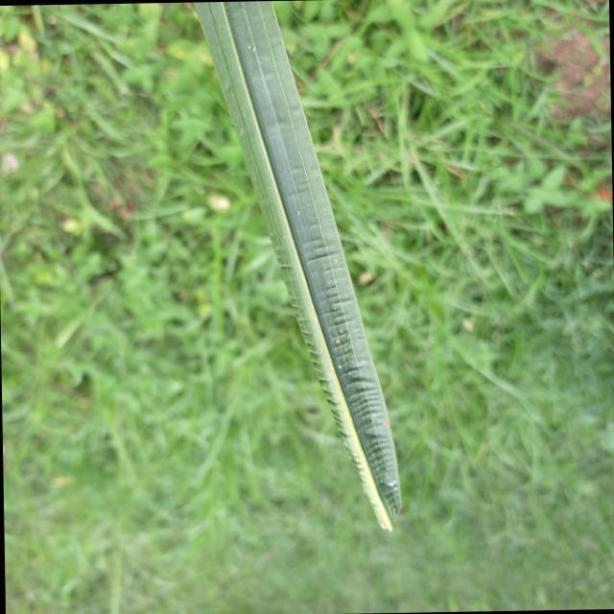Boron: (190, 0, 406, 538)
